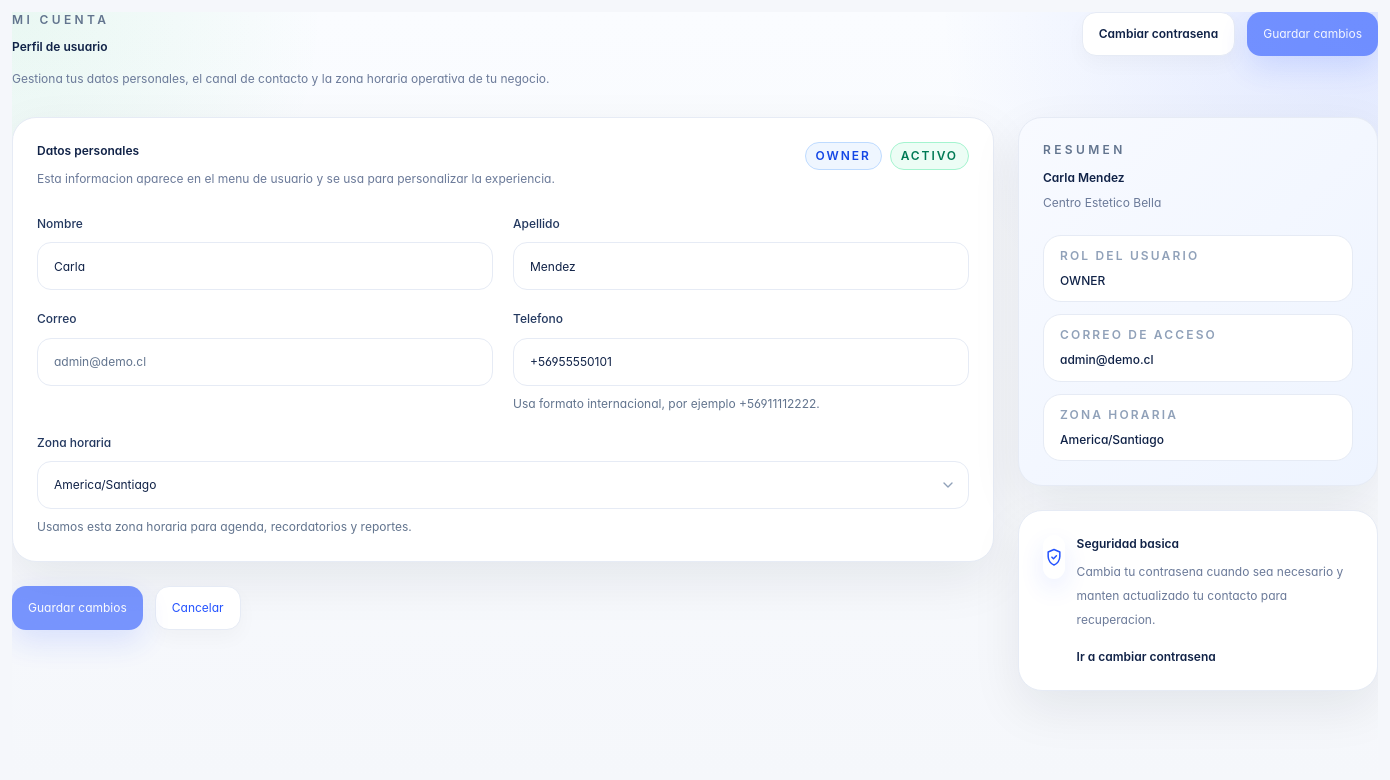
Test case: ProfilePage › submits form and shows success toast
The width and height of the screenshot is (1390, 780).
Replace the text in the field showing "Carla" with "Carla Editada" at (265, 266), box x1=38 y1=244 x2=492 y2=290
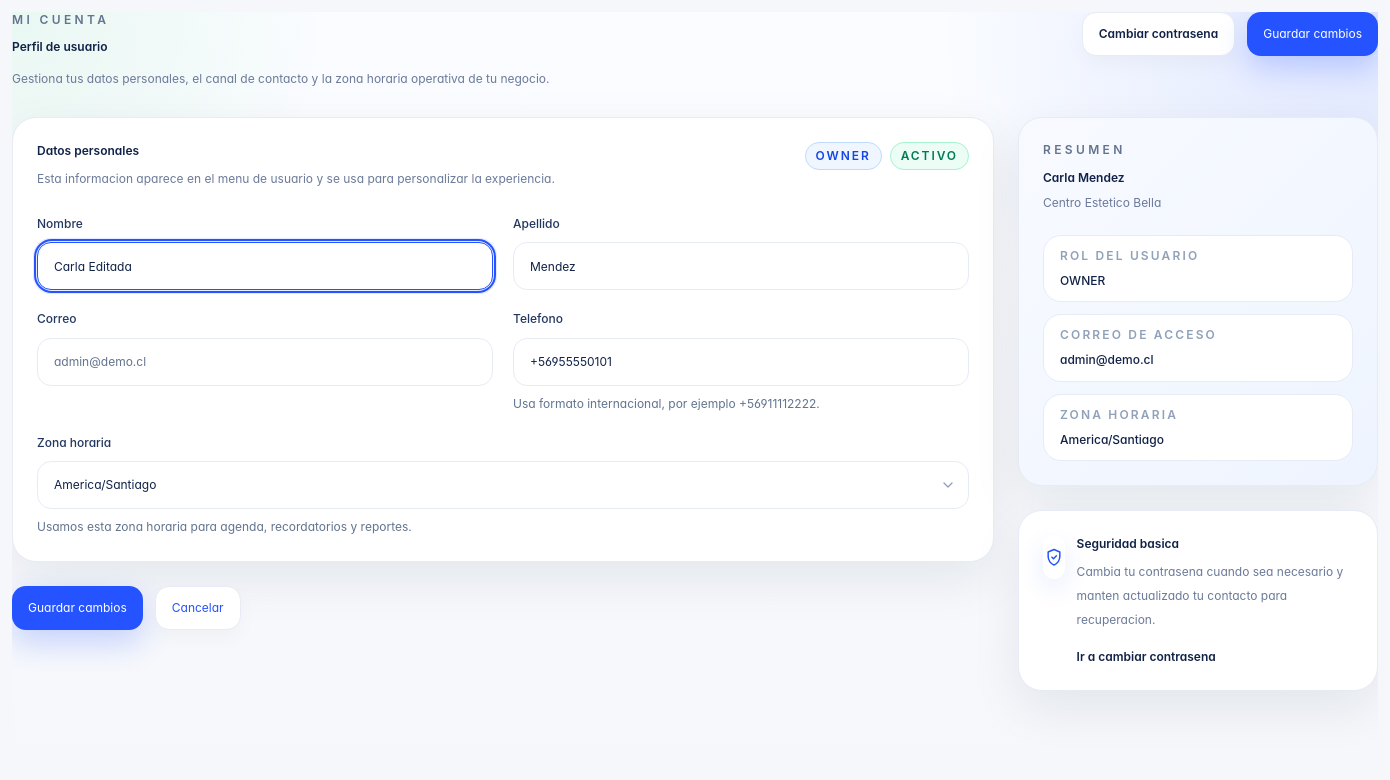
Click the button "Guardar cambios" in the row of "Mi cuenta" at (1313, 34), box x1=1247 y1=12 x2=1378 y2=56
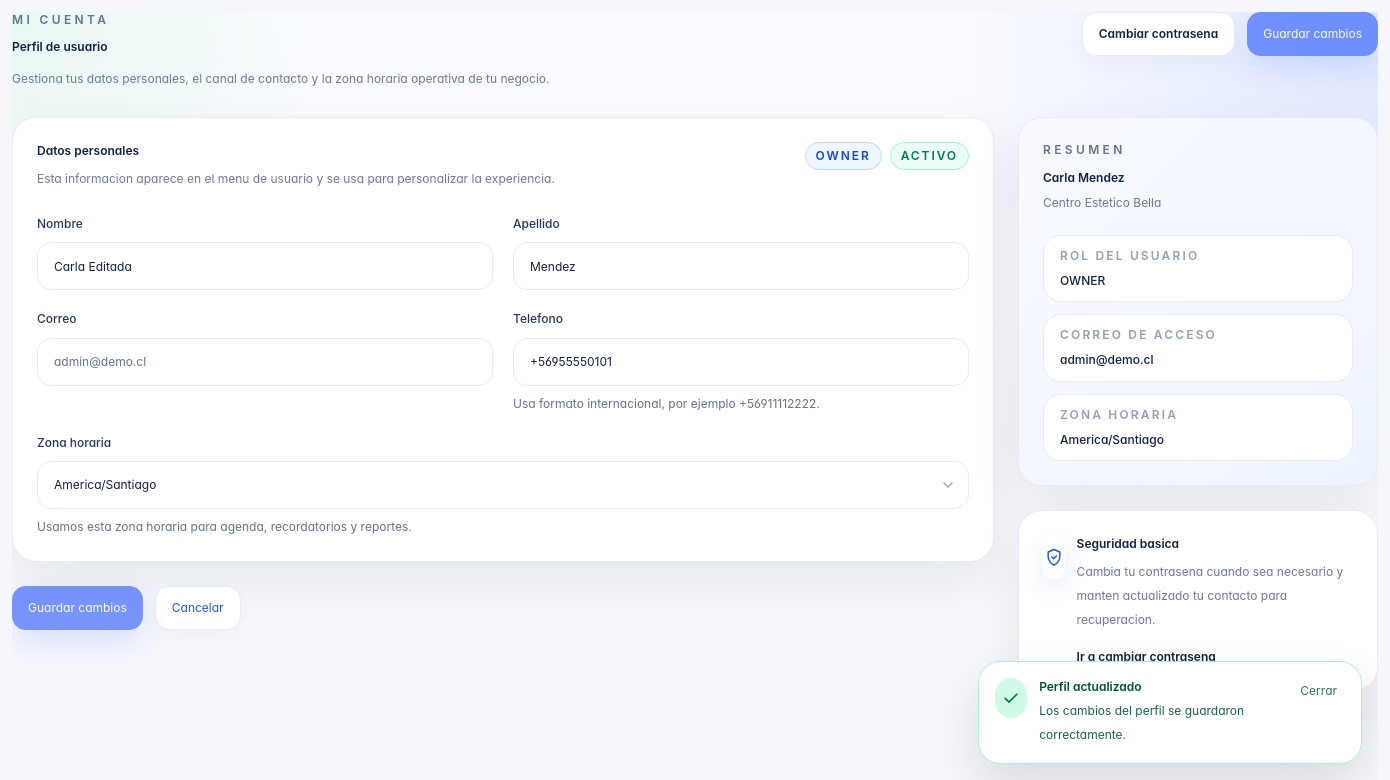
Expected: the text "Perfil actualizado" is shown, x1=1039 y1=679 x2=1142 y2=694
